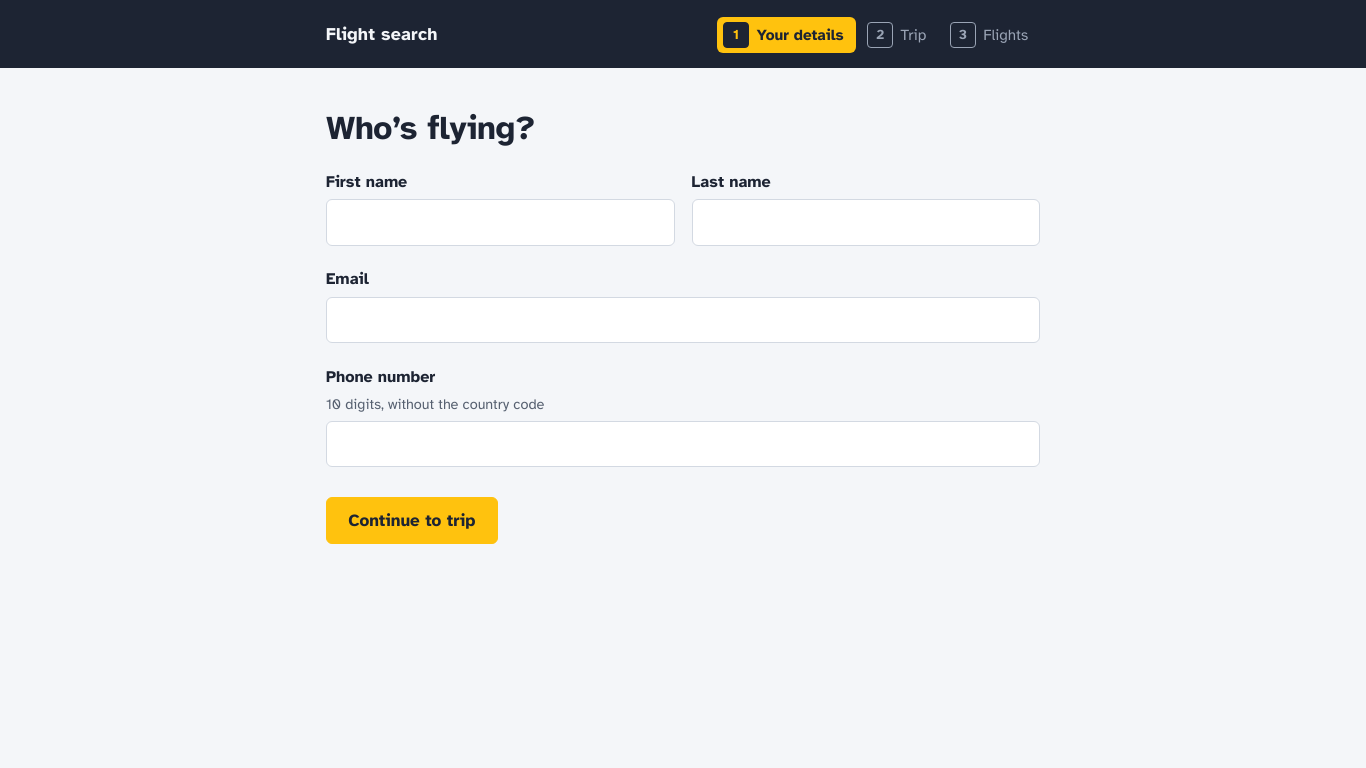
Test: flight search wizard › moves focus to the heading of each new step
Type "Asha" into the field labelled "First name".
click(500, 223); type("Asha")  # box [326,199,674,246]
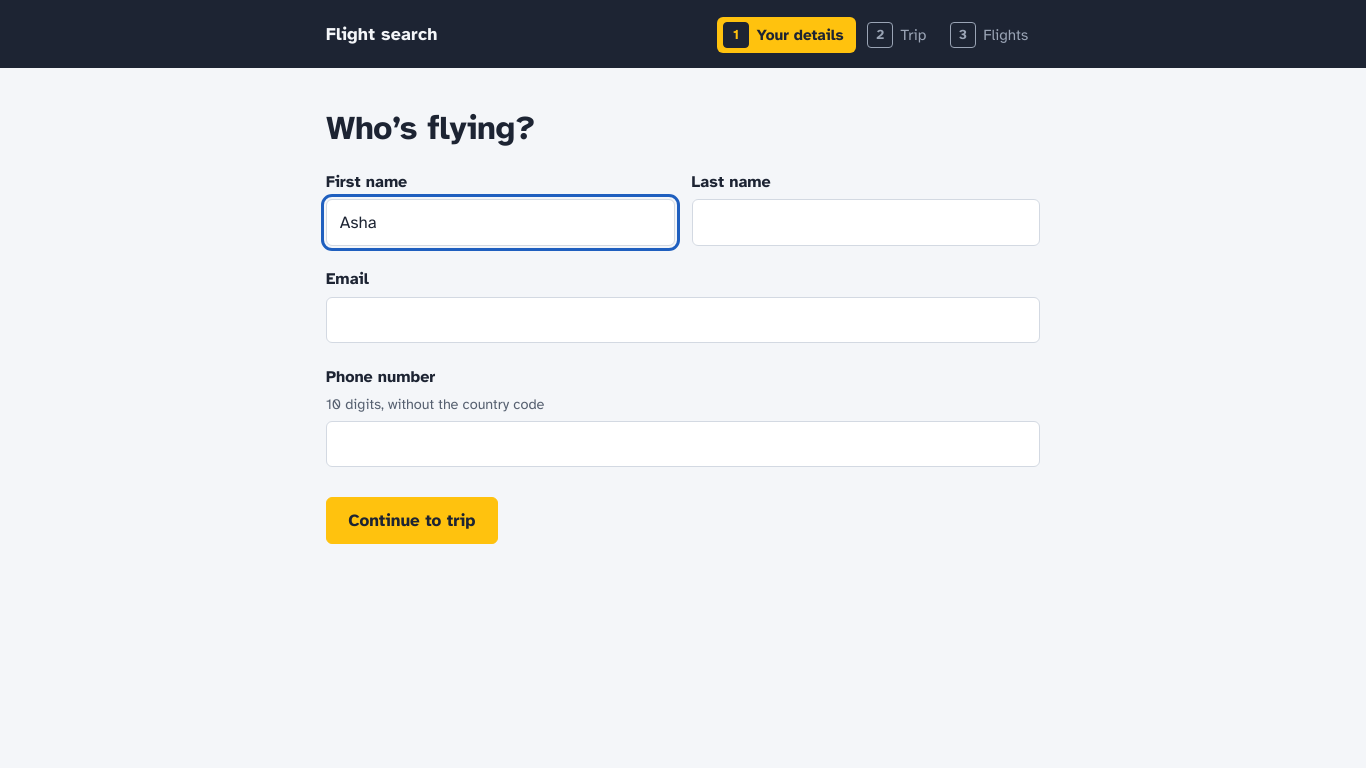
Type "Rao" into the field labelled "Last name".
click(866, 223); type("Rao")  # box [692,199,1040,246]
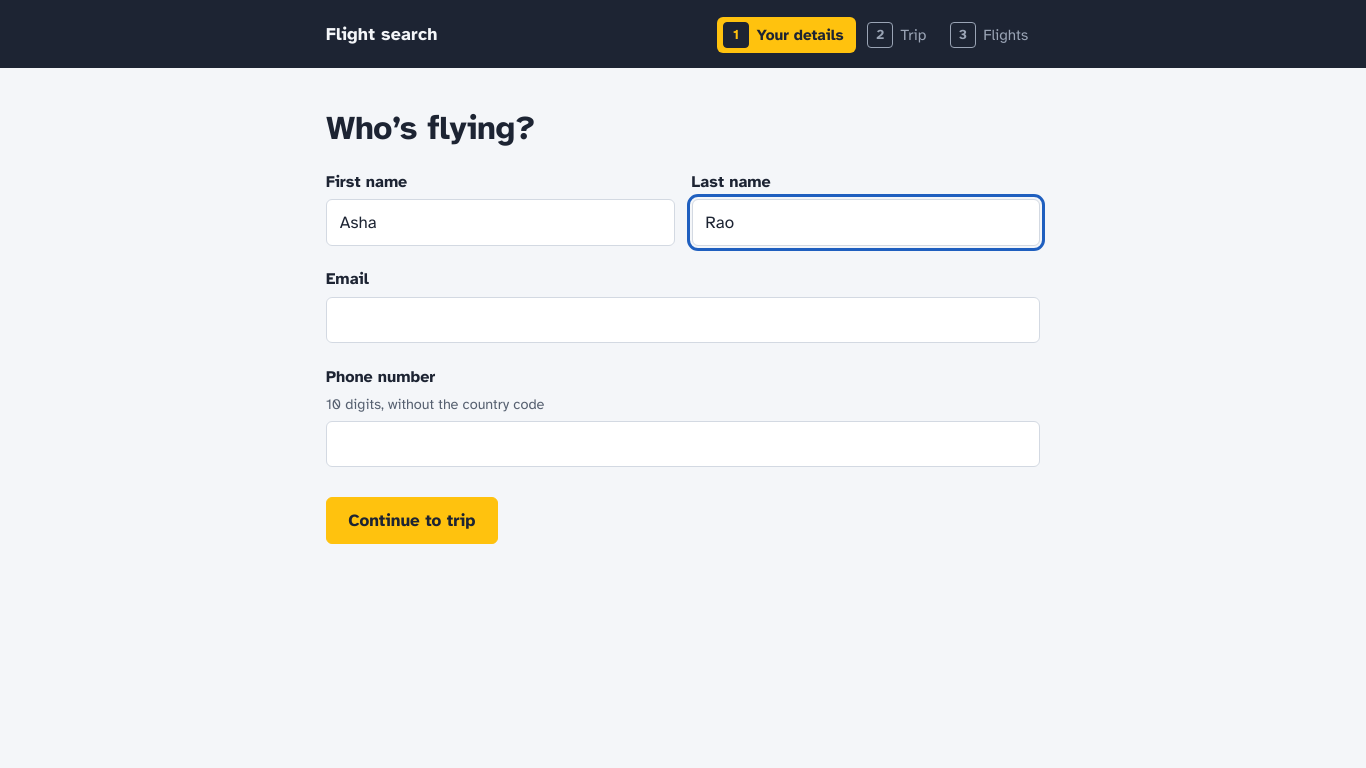
Type "asha@example.com" into the field labelled "Email".
click(683, 320); type("asha@example.com")  # box [326,296,1040,343]
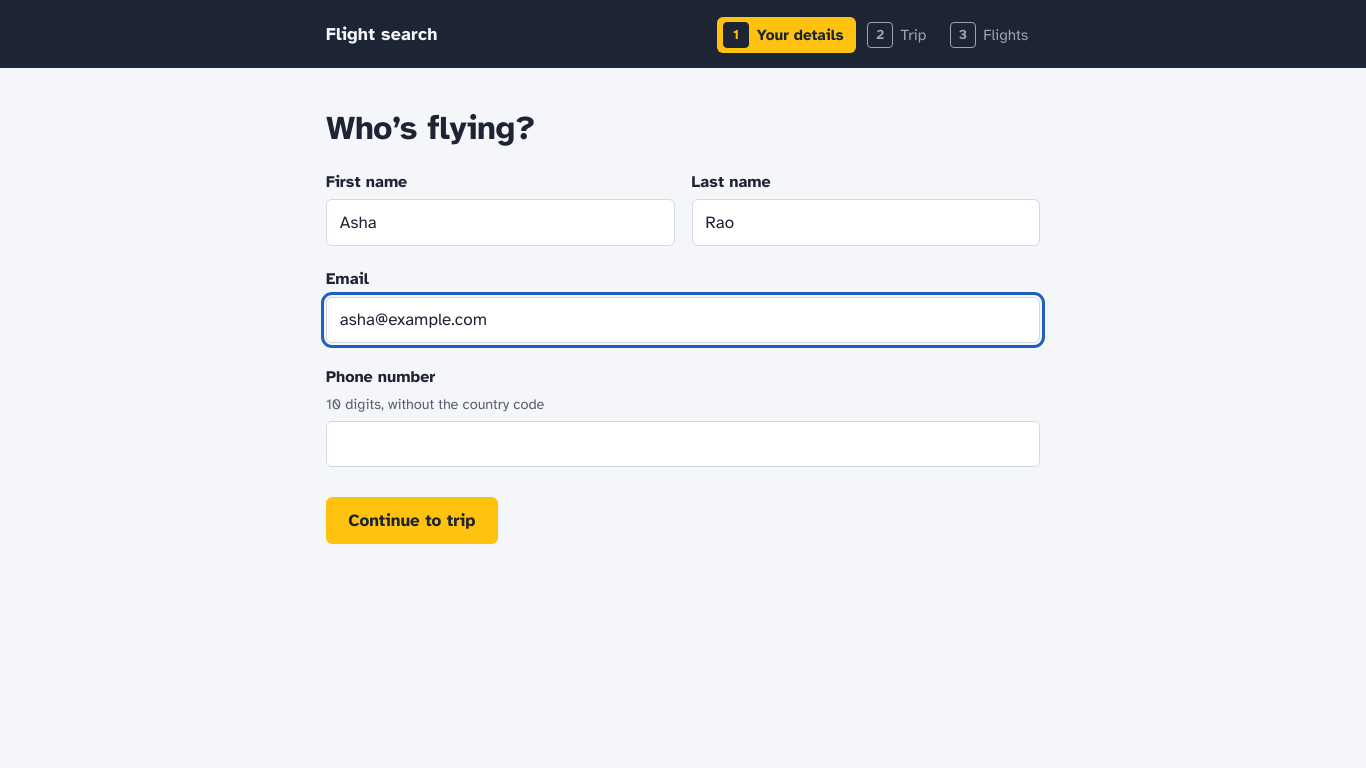
Type "9876543210" into the field labelled "Phone number".
click(683, 444); type("9876543210")  # box [326,421,1040,467]
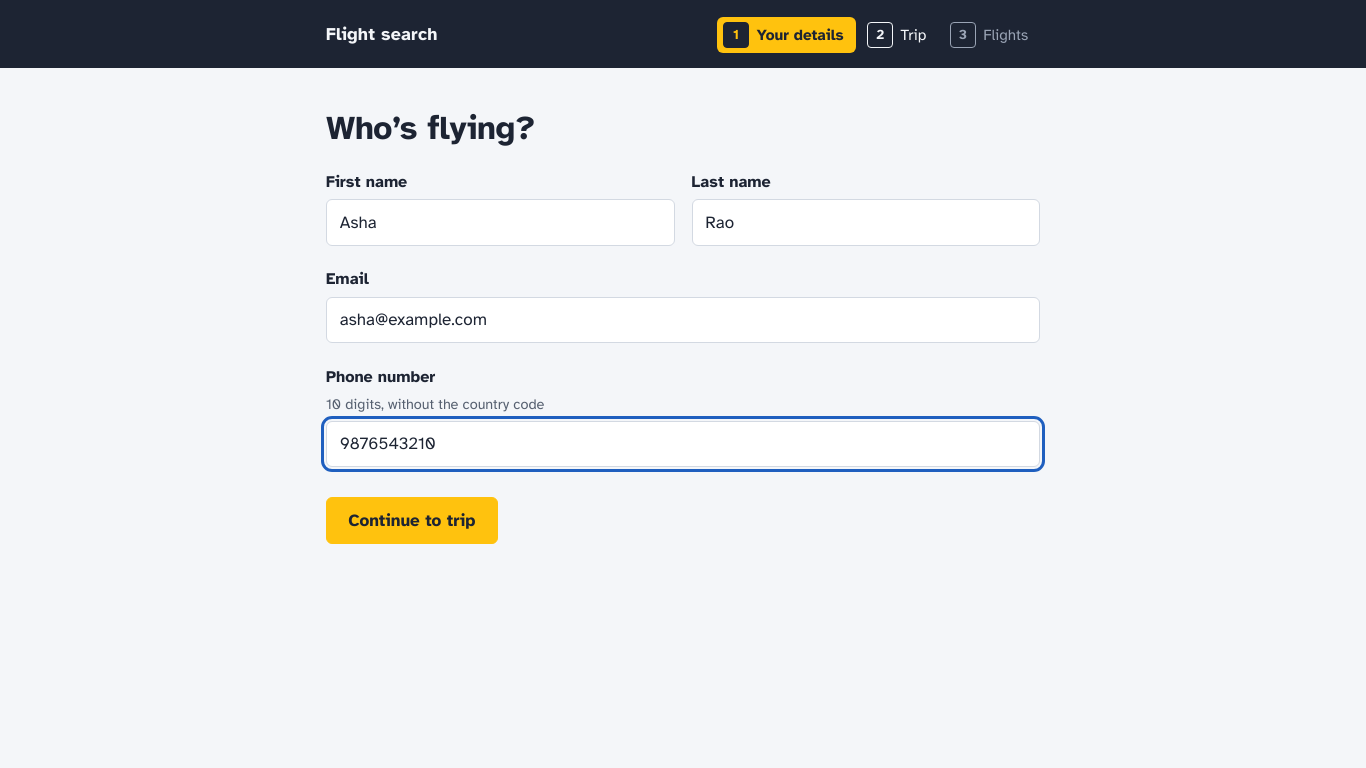
Click the button "Continue to trip".
click(412, 520)  # box [326,497,498,544]
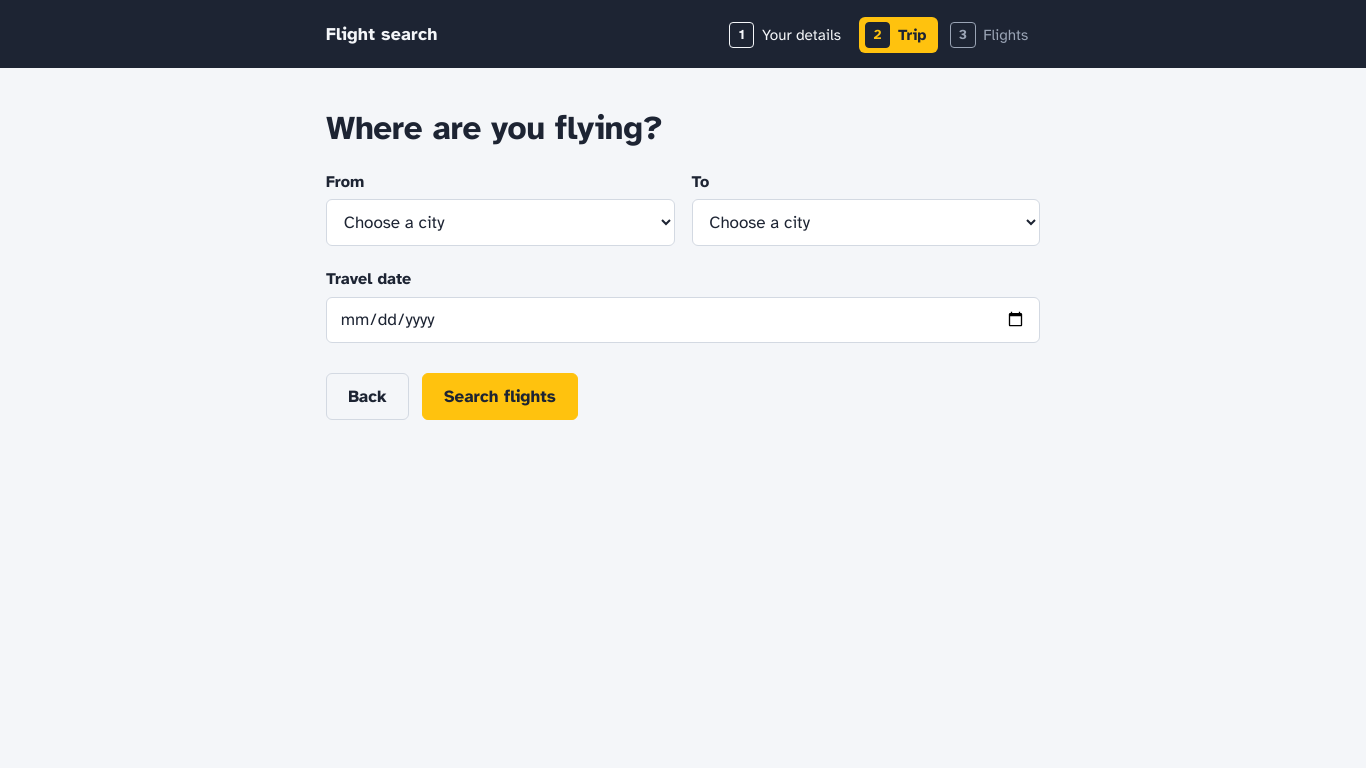
Check: the heading reads "Where are you flying?", box [326,108,663,150]
